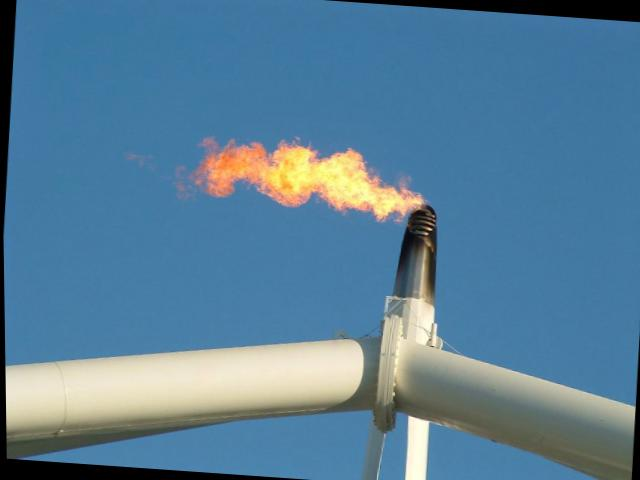fire: (198, 123, 440, 244)
